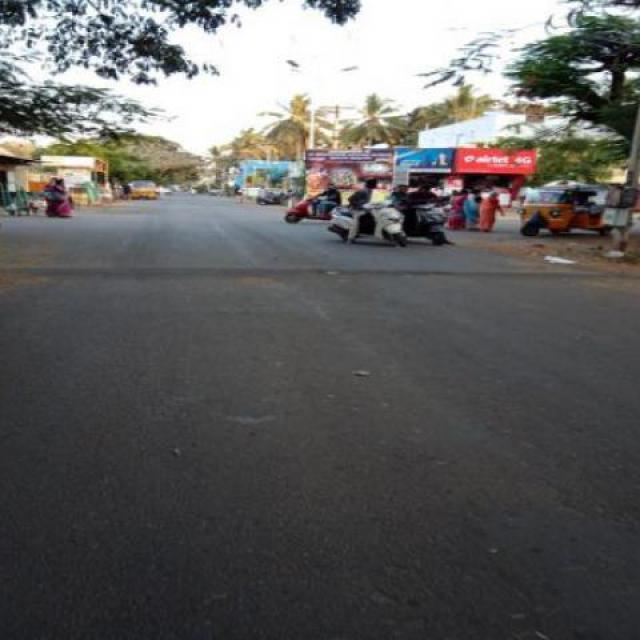Unmarked Bump: (5, 264, 632, 283)
